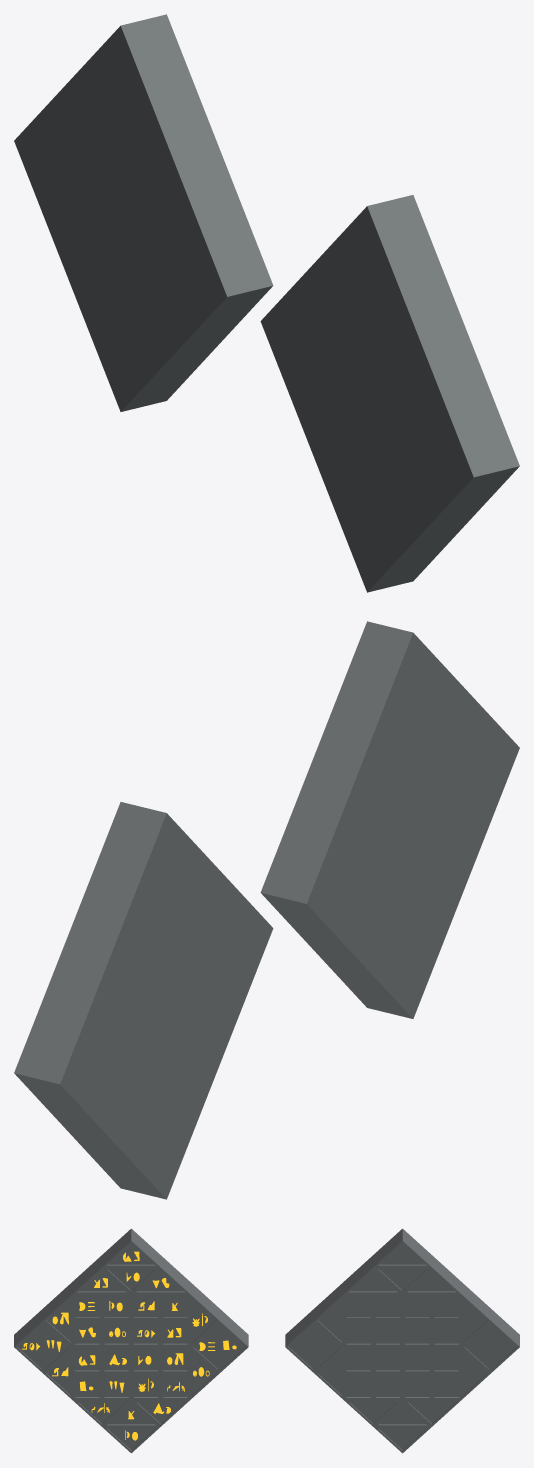
Rendered from alien puzzle.fbx.
3 renders of one model, top to bottom at view 1: azimuth 30°, elevation 25°; view 2: azimuth 150°, elevation 25°; view 3: azimuth 270°, elevation 25°, orthographic. The views are drawn at different scales.
Parts seen in each view (by area): view 1: Cube.059, Cube.027, Cube.025, Cube.019, Cube.051, Cube.016, Cube.048, Cube.057, Cube.024, Cube.023, Cube.055, Cube.021 (+52 smaller); view 2: Cube.031, Cube.063, Cube.060, Cube.019, Cube.051, Cube.017, Cube.049, Cube.028, Cube.061, Cube.023, Cube.055, Cube.052 (+52 smaller); view 3: Cube.019, Cube.051, Cube.027, Cube.063, Cube.031, Cube.059, Cube.025, Cube.060, Cube.028, Cube.057, Cube.016, Cube.017 (+52 smaller).
Part boxes in pixels (<box>): Cube.059: <box>200,218,273,325</box>; Cube.027: <box>447,398,519,505</box>; Cube.025: <box>420,330,492,437</box>; Cube.019: <box>341,195,439,273</box>; Cube.051: <box>94,14,193,93</box>; Cube.016: <box>367,262,466,341</box>; Cube.048: <box>121,82,219,160</box>; Cube.057: <box>174,150,246,257</box>; Cube.024: <box>420,438,492,534</box>; Cube.023: <box>340,525,439,592</box>; Cube.055: <box>94,344,192,411</box>; Cube.021: <box>367,496,465,563</box>; Cube.031: <box>260,825,333,932</box>; Cube.063: <box>14,1005,86,1112</box>; Cube.060: <box>41,937,113,1044</box>; Cube.019: <box>340,621,439,700</box>; Cube.051: <box>94,802,192,880</box>; Cube.017: <box>314,689,412,767</box>; Cube.049: <box>67,869,166,948</box>; Cube.028: <box>287,757,359,864</box>; Cube.061: <box>41,1045,113,1141</box>; Cube.023: <box>341,951,439,1018</box>; Cube.055: <box>94,1132,193,1199</box>; Cube.052: <box>68,1103,166,1170</box>; Cube.019: <box>102,1228,160,1267</box>; Cube.051: <box>373,1228,431,1267</box>; Cube.027: <box>14,1308,43,1373</box>; Cube.063: <box>490,1308,519,1373</box>; Cube.031: <box>219,1308,248,1373</box>; Cube.059: <box>285,1308,314,1373</box>; Cube.025: <box>43,1282,72,1346</box>; Cube.060: <box>461,1282,490,1346</box>; Cube.028: <box>190,1282,219,1346</box>; Cube.057: <box>314,1282,343,1346</box>; Cube.016: <box>72,1255,130,1293</box>; Cube.017: <box>132,1255,189,1293</box>.
Bounding box in the file's own units: 200 × 1600 × 3449.
